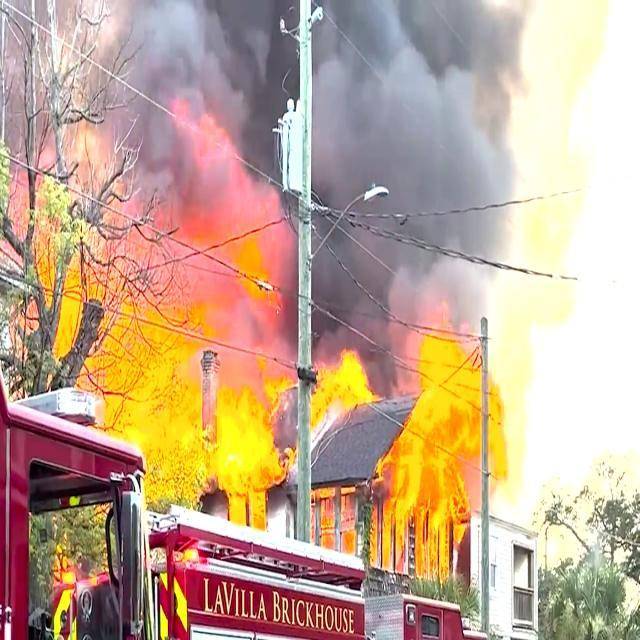Fire: (62, 282, 260, 517), (399, 356, 496, 552), (313, 363, 368, 427)
Smoke: (115, 4, 528, 321)
